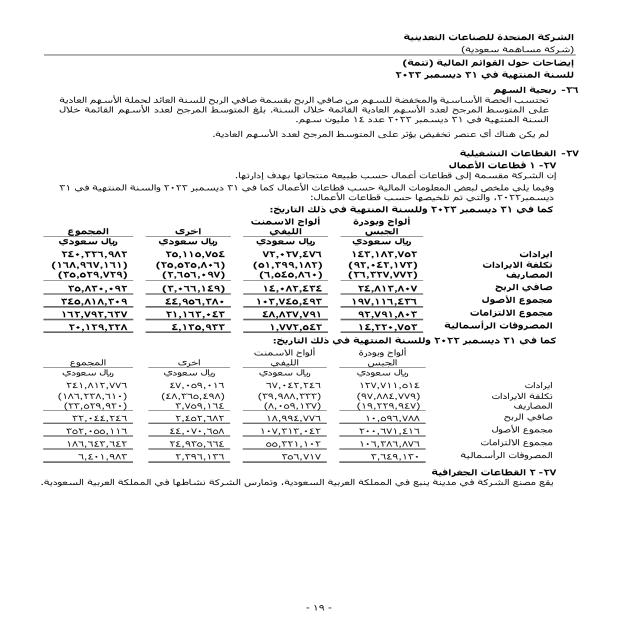notes: (392, 60, 576, 68)
table: (44, 218, 560, 344), (38, 354, 550, 472)
